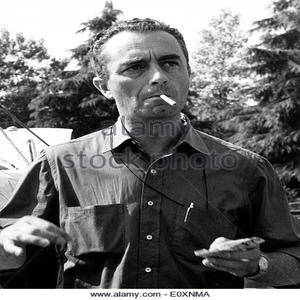cigarette: (159, 93, 180, 109)
